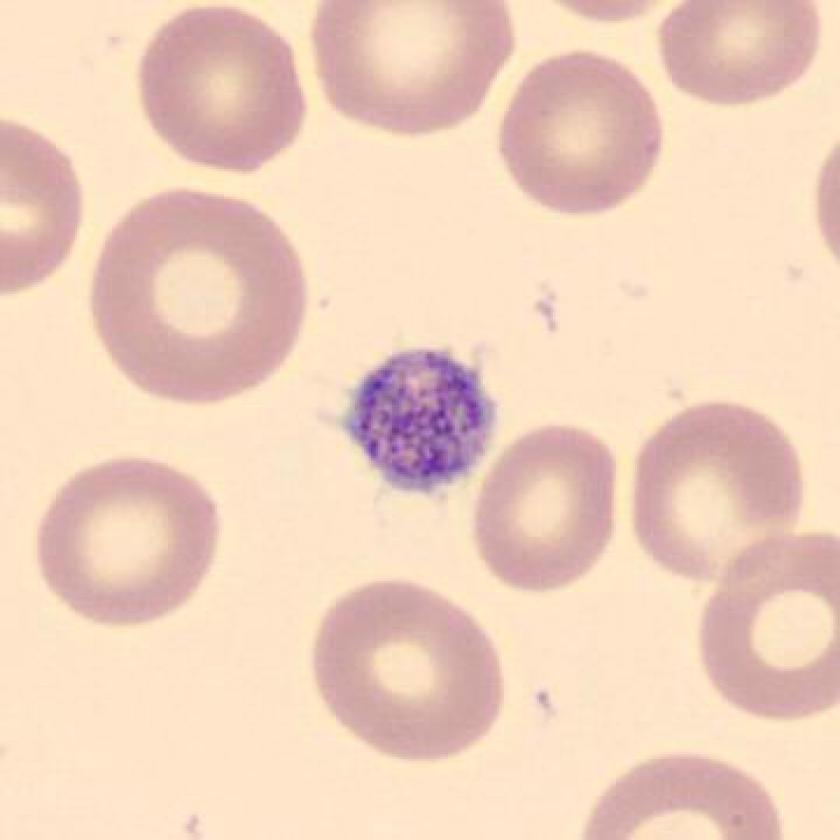platelets: (335, 341, 505, 499)
